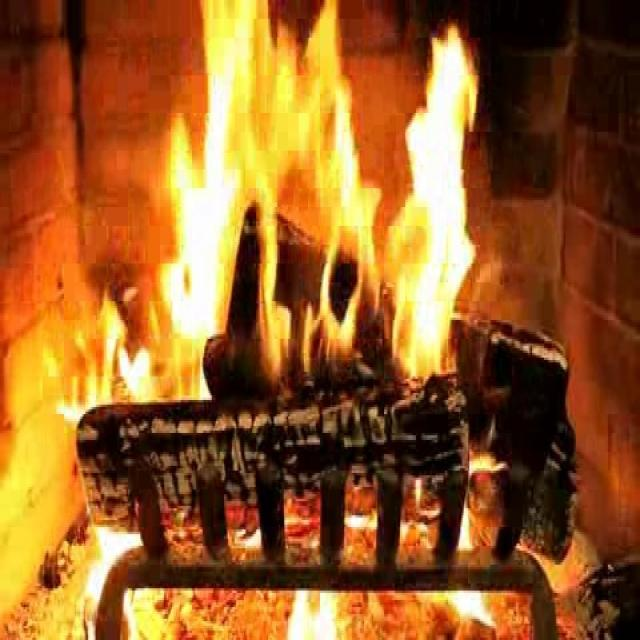Fire: (146, 0, 486, 428)
